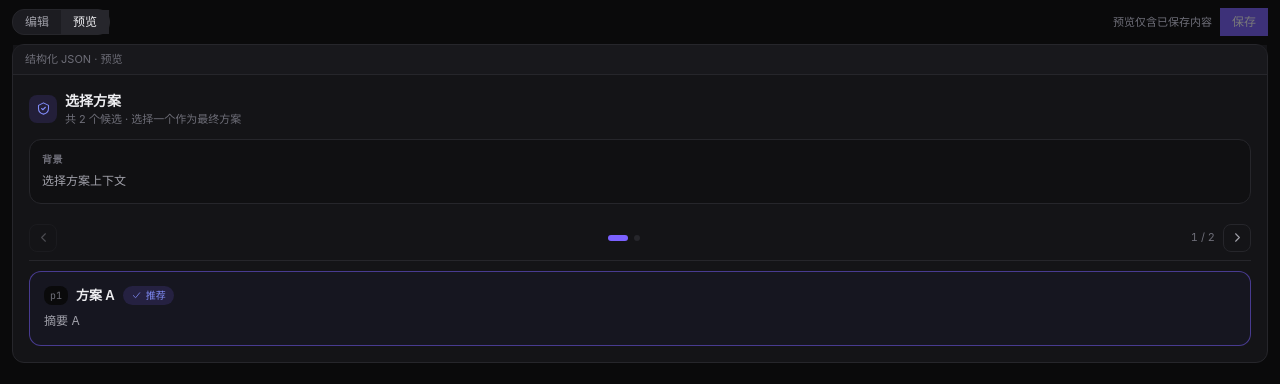
Test case: GateProductEditor › defaults proposals.json edit to raw JSON with context/proposals visible
Click the button with test id "gate-mode-edit": (37, 22) [13,10,61,34]
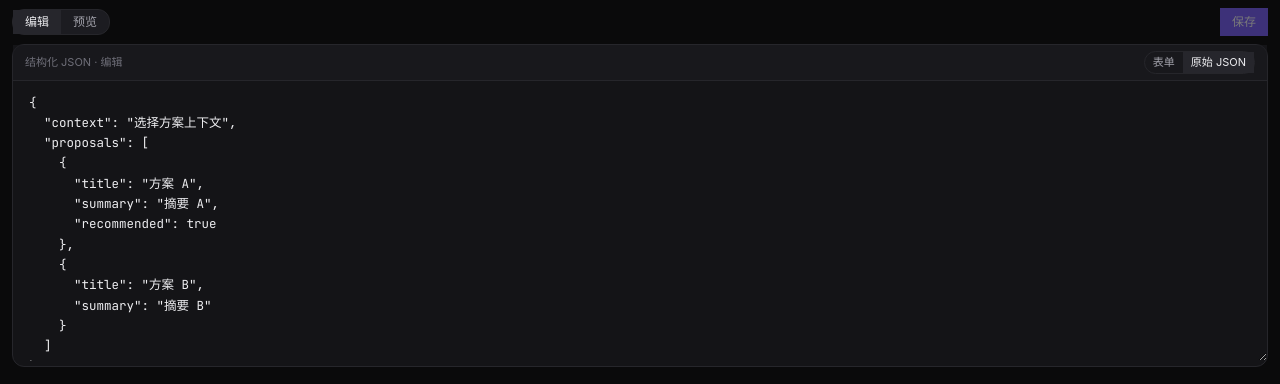
Expected: the button with test id "gate-struct-form" is shown, [1145,52,1183,72]
Expected: the text box with test id "gate-artifact-textarea" is shown
